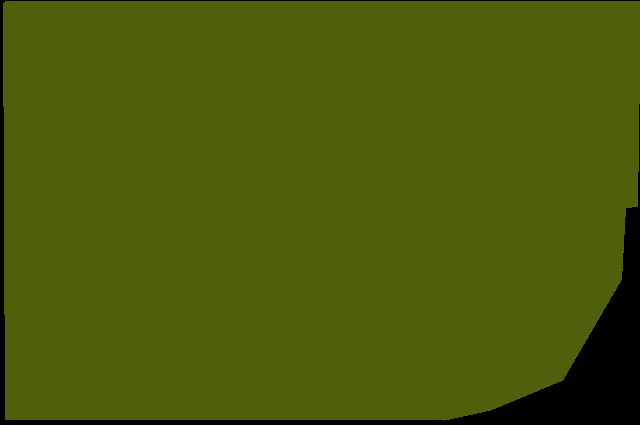Train: (3, 1, 640, 420)
